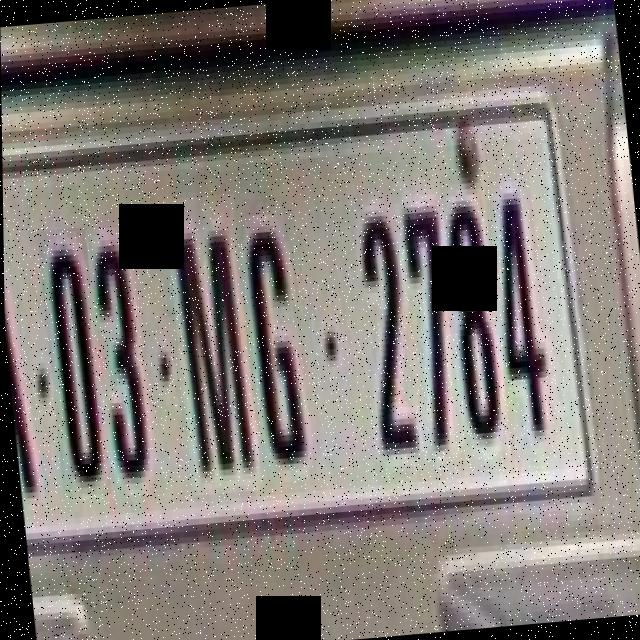0: (36, 227, 110, 498)
3: (84, 220, 158, 502)
4: (480, 150, 557, 458)
7: (392, 178, 466, 450)
8: (437, 173, 506, 448)
G: (238, 195, 316, 488)
M: (162, 194, 262, 496)
